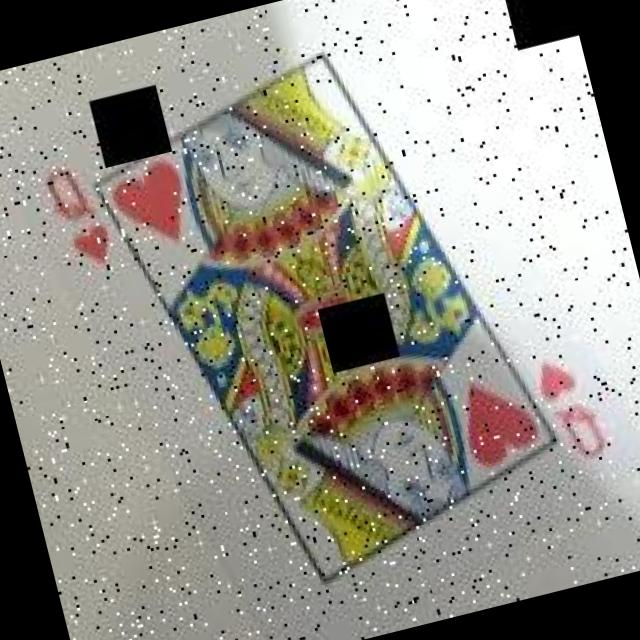Queen of hearts: (25, 22, 633, 640)
